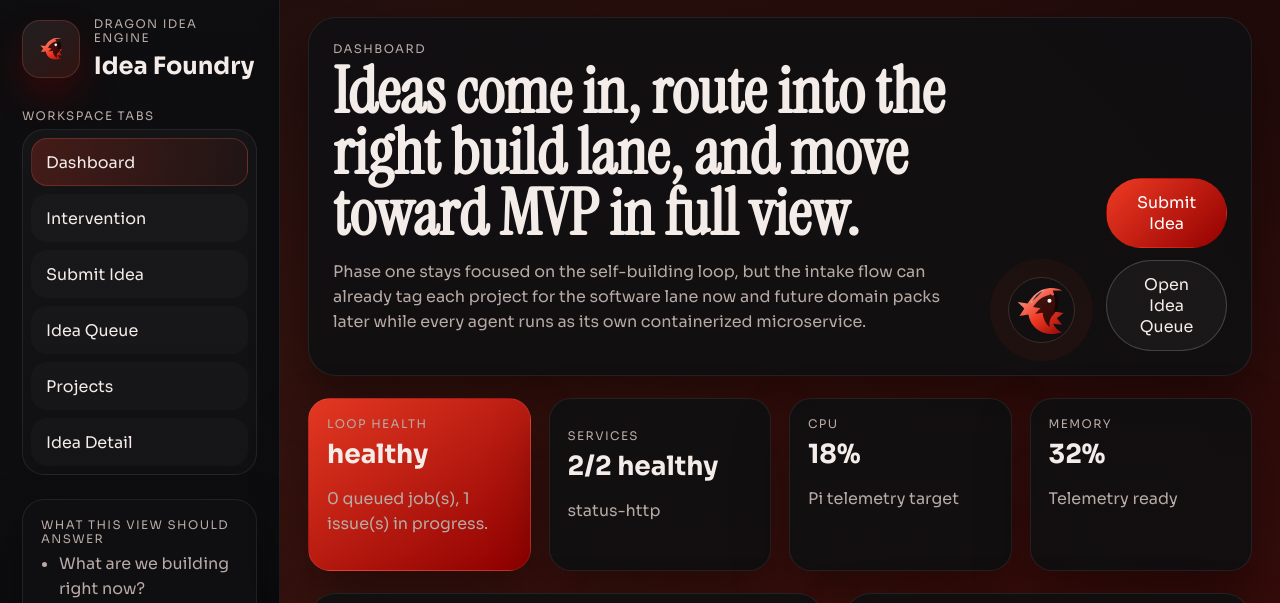
Scenario: React dashboard › paginates detail backlog with a default page size of 10 and supports changing page size
This screenshot has width=1280, height=603.
Expected: the heading "Ideas come in, route into the right build lane" is shown, [333,50,944,255]
Click the button "Idea Queue" at (140, 330), box [31,306,248,354]
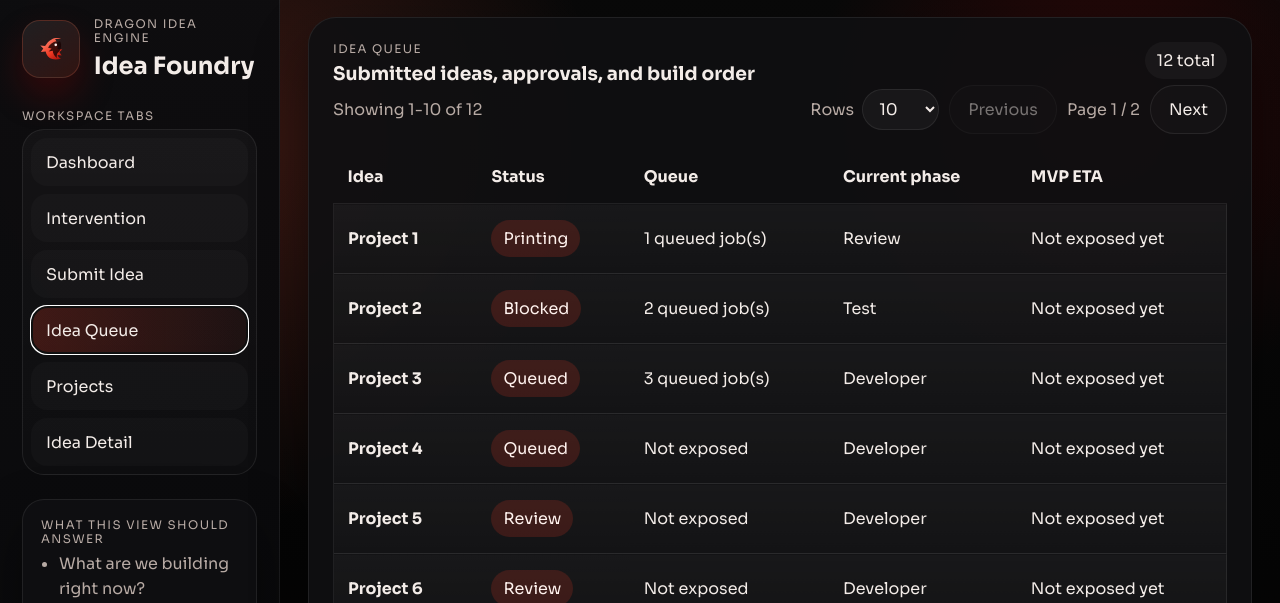
Click the text "Project 1" at (780, 238), box [334,204,1226,274]
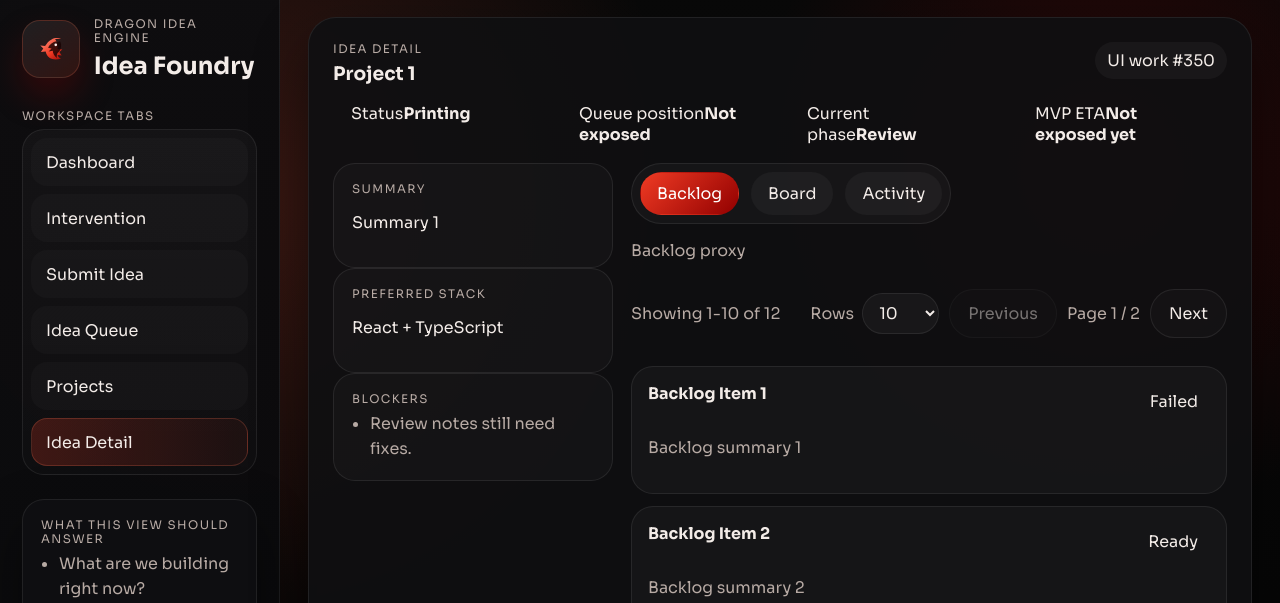
Expected: the text "Backlog Item 11" is not shown
Expected: the heading "Project 1" is shown, [333,62,422,85]
Select "20" in the dropdown named "Backlog page size" at (901, 314), box [862,293,939,334]
(page scrolled)
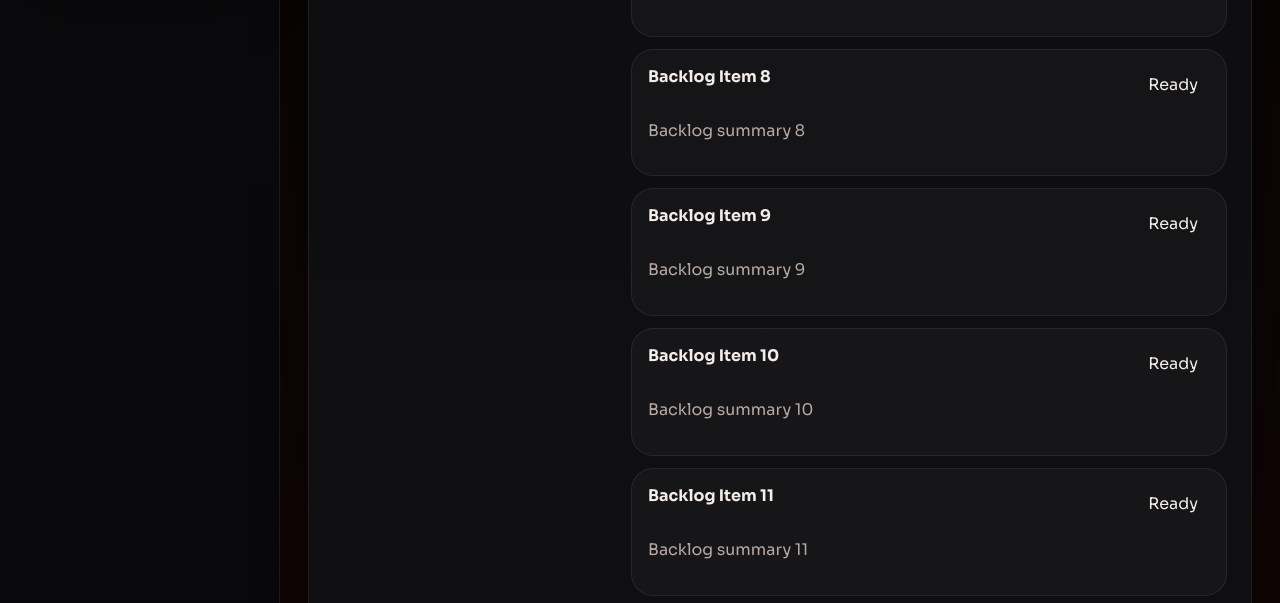
Expected: the text "Backlog Item 11" is shown, [648,485,774,506]
